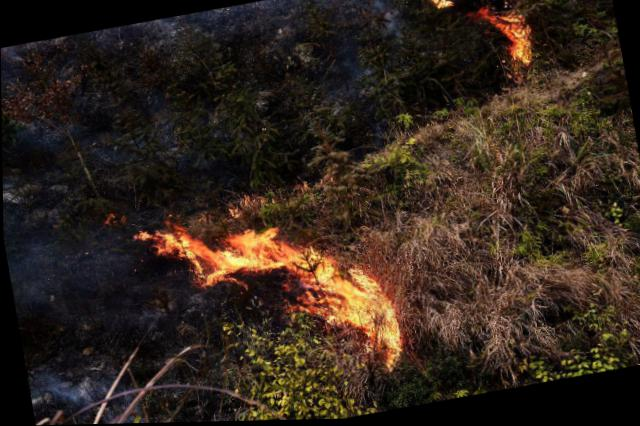fire: (313, 261, 348, 327), (230, 228, 280, 273), (360, 291, 396, 351), (504, 16, 531, 68), (342, 278, 363, 330), (190, 241, 212, 285), (209, 248, 238, 277), (296, 289, 323, 319), (151, 227, 179, 255), (278, 243, 303, 271), (292, 267, 315, 292), (354, 270, 374, 295), (178, 229, 191, 257), (383, 348, 399, 370), (131, 228, 150, 243), (428, 0, 452, 10)
